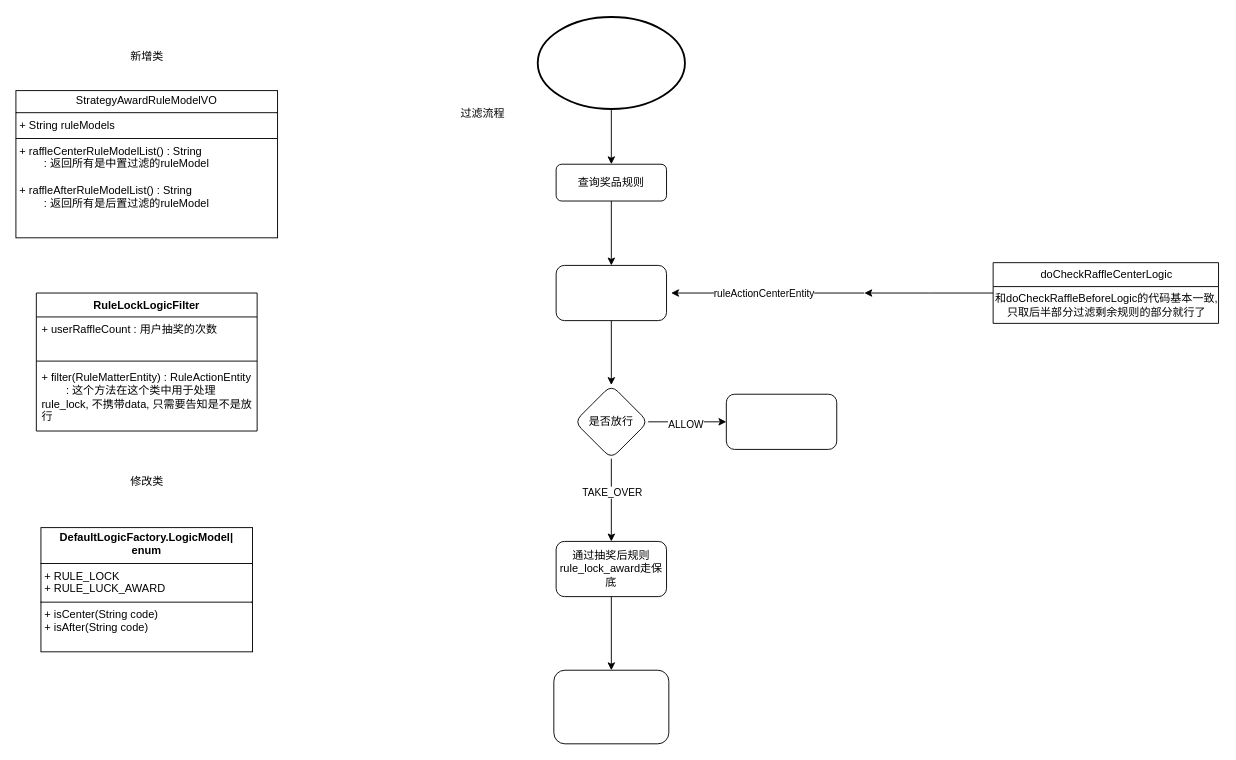
This 1236x760 diagram has some shape labels left out. Each missing label, with the centre of its shape:
"在performRaffle方法的第四个步骤, 我们正常抽奖获取到了awardId之后" belongs at [610,62].
"规则过滤" belongs at [611,292].
"返回带有AwardId的RaffleAward类" belongs at [781,421].
"这部分还没有处理, 所以暂时返回在awardDesc中记录了现在要走保底的抽奖奖品类" belongs at [611,706].
